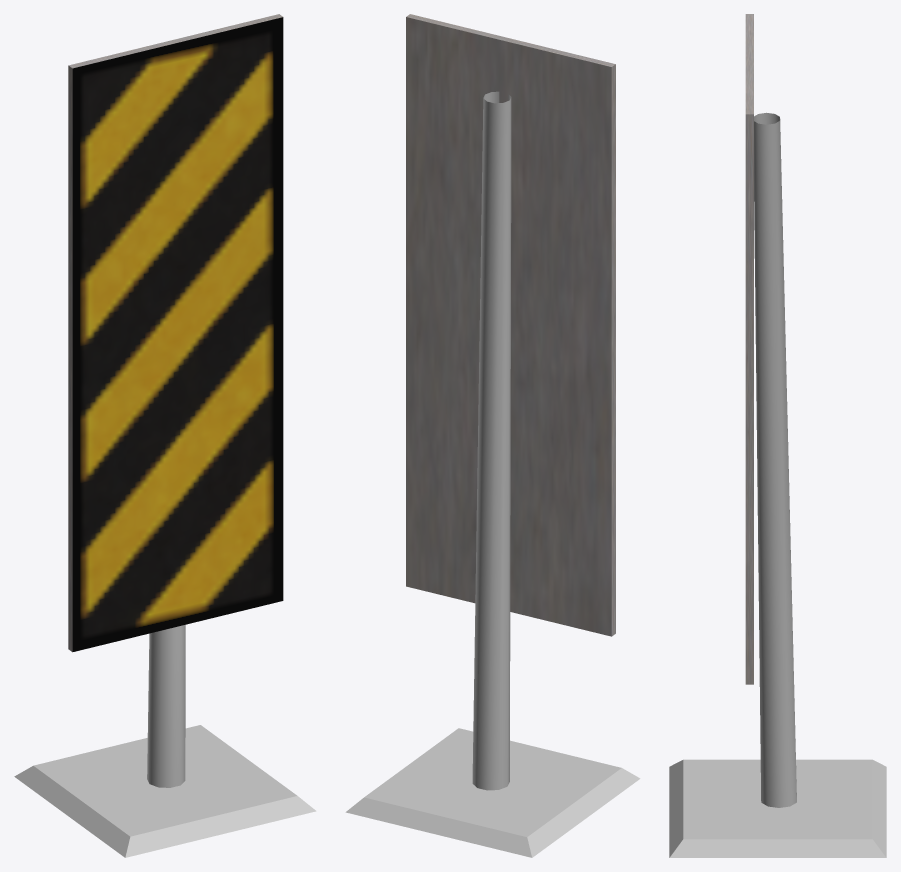
The model's file is D_road_s_02.FBX.
3 renders of one model, left to right at view 1: azimuth 30°, elevation 25°; view 2: azimuth 150°, elevation 25°; view 3: azimuth 270°, elevation 25°, orthographic. The views are drawn at different scales.
Visible parts, largest first — view 1: road_s_02; view 2: road_s_02; view 3: road_s_02.
Boxes of the visible parts, box(x1,y1,x2,y2) form: road_s_02: box(14, 14, 316, 857); road_s_02: box(345, 14, 640, 857); road_s_02: box(669, 14, 886, 857).
Size of the model in its own units: 1.14 by 1.04 by 3.95.
